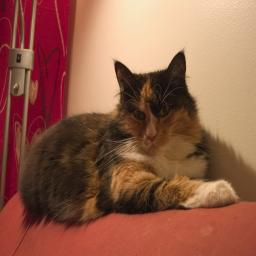catnose: (145, 132, 157, 144)
